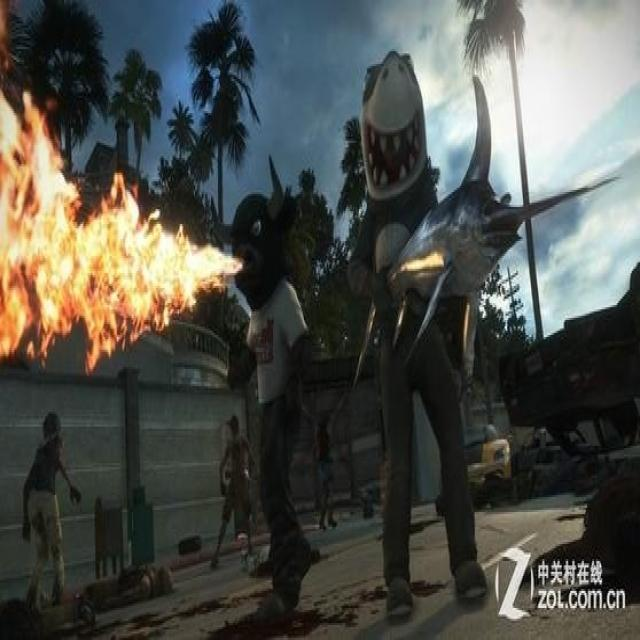Fire: (1, 87, 242, 376)
